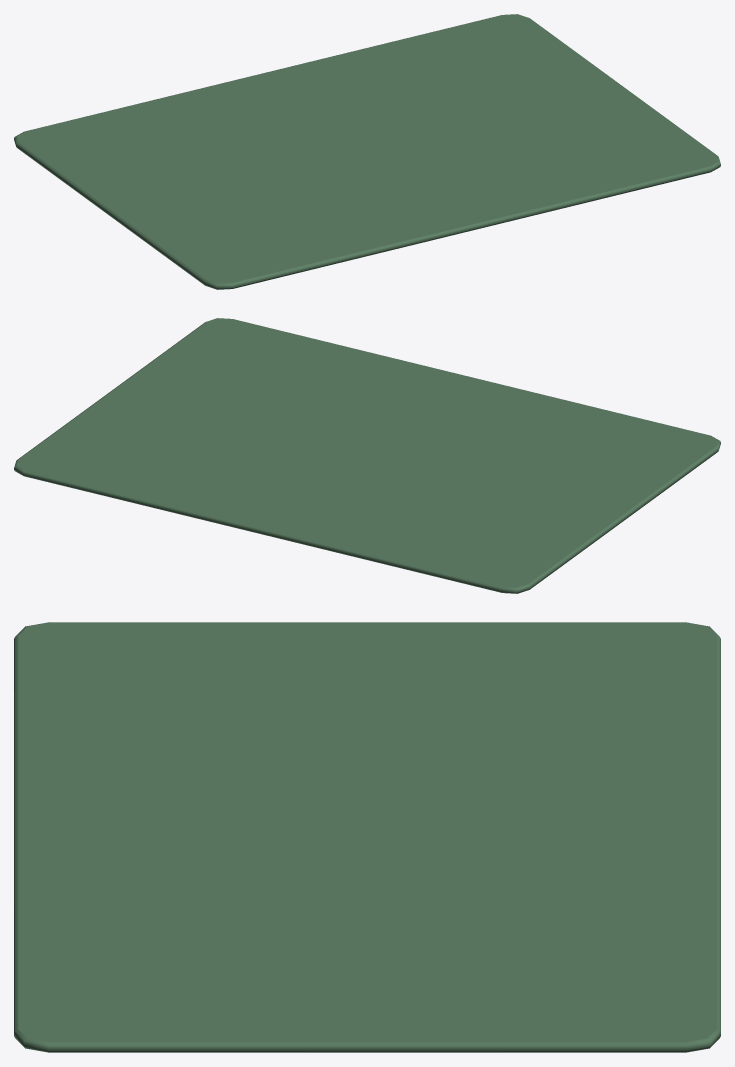
Rendered from t200_mounts.obj.
The picture shows the model from 3 angles, top to bottom: view 1: azimuth 30°, elevation 25°; view 2: azimuth 150°, elevation 25°; view 3: azimuth 270°, elevation 25°; orthographic projection. The views are drawn at different scales.
Parts seen in each view (by area): view 1: t200_mounts; view 2: t200_mounts; view 3: t200_mounts.
Part boxes in pixels (x1=…): t200_mounts: x1=14, y1=14, x2=720, y2=289; t200_mounts: x1=14, y1=318, x2=720, y2=593; t200_mounts: x1=14, y1=622, x2=720, y2=1052.
Size of the model in its own units: 7.2 by 0.24 by 5.08.
